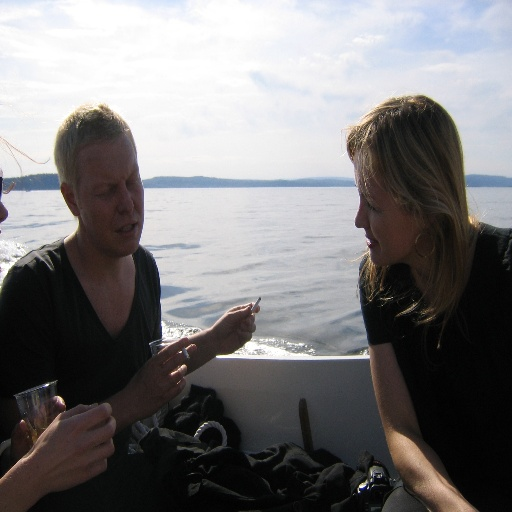hand: (16, 406, 125, 492), (126, 334, 197, 418), (9, 391, 67, 465), (212, 300, 259, 355)
